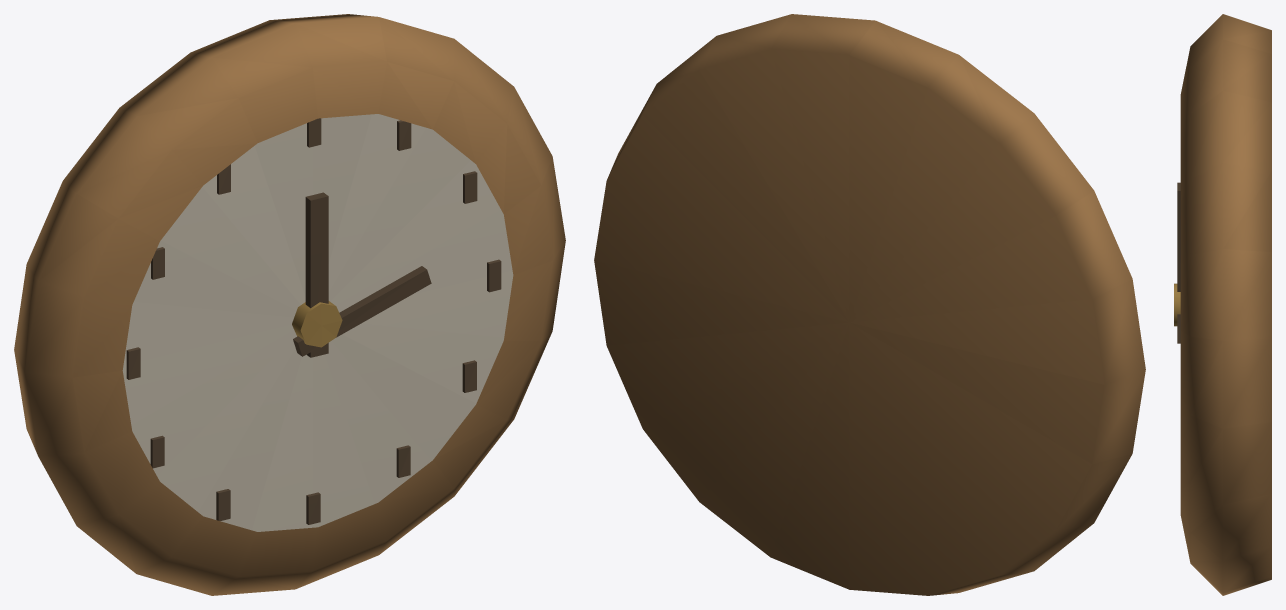
Rendered from wall_clock_round.glb.
The picture shows the model from 3 angles, left to right: view 1: azimuth 30°, elevation 25°; view 2: azimuth 150°, elevation 25°; view 3: azimuth 270°, elevation 25°; orthographic projection. The views are drawn at different scales.
Visible parts, largest first — view 1: wall_clock_round; view 2: wall_clock_round; view 3: wall_clock_round.
Part boxes in pixels (x1,y1,x2,y2): wall_clock_round: (14, 14, 565, 595); wall_clock_round: (594, 14, 1145, 595); wall_clock_round: (1174, 14, 1271, 595).
Size of the model in its own units: 0.36 by 0.36 by 0.06.
